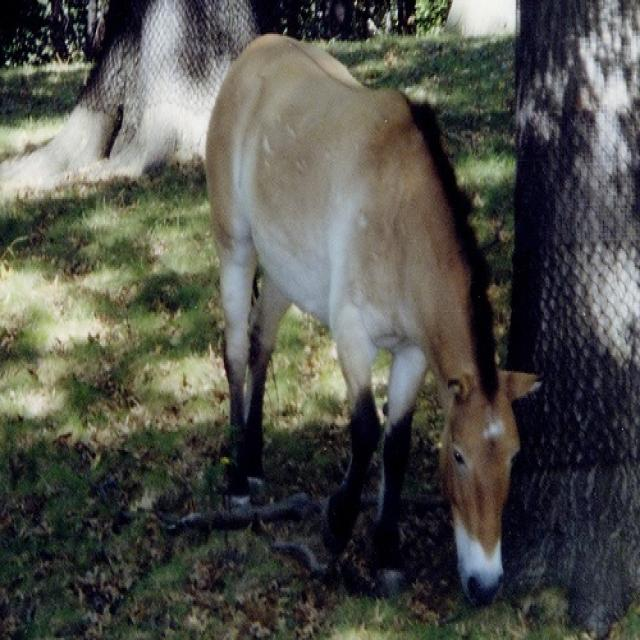horse: (203, 34, 542, 602)
